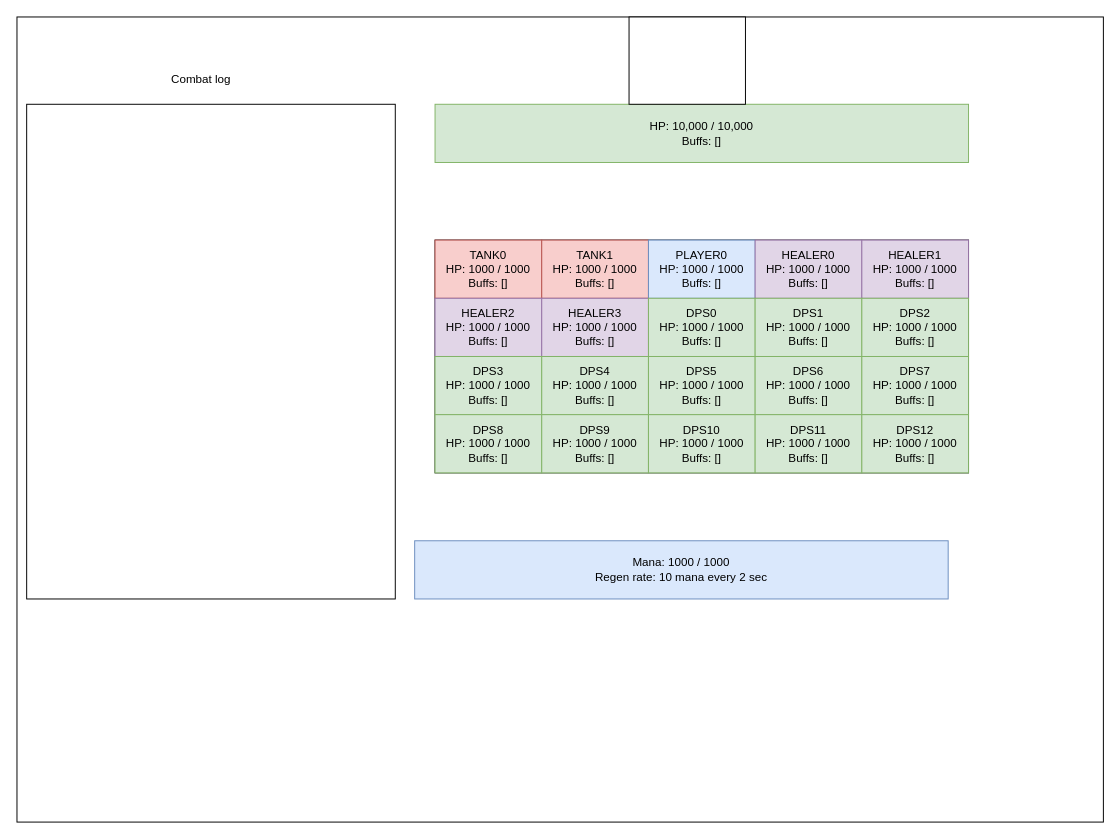
Some shapes in this 1120 by 839 pixel diagram are drawn without their labels. Here are the shapes that lost their labels. From the top down, the centre of each, then its label:
At (686,60): "BOSS NAME".
At (210,351): "Boss hits Tank0 for X Damage Healer0 heals TANK1 for Y Health DPS0 has died!".
